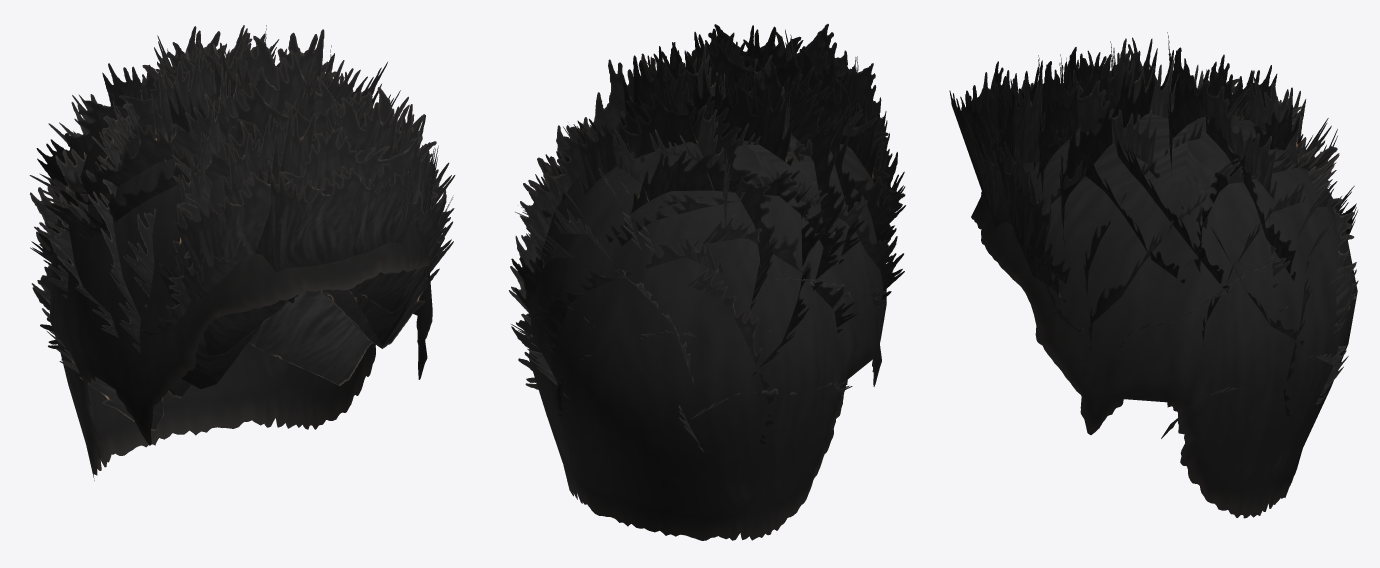
File: hair_005.fbx
3 views of the same model, side by side, from view 1: azimuth 30°, elevation 25°; view 2: azimuth 150°, elevation 25°; view 3: azimuth 270°, elevation 25° (orthographic). The views are drawn at different scales.
Parts seen in each view (by area): view 1: hair_005; view 2: hair_005; view 3: hair_005.
Boxes of the visible parts, x1,y1,x2,y2 form: hair_005: [29, 25, 455, 480]; hair_005: [509, 24, 905, 540]; hair_005: [949, 32, 1358, 518].
Size of the model in its own units: 21.18 by 26.56 by 22.2.
